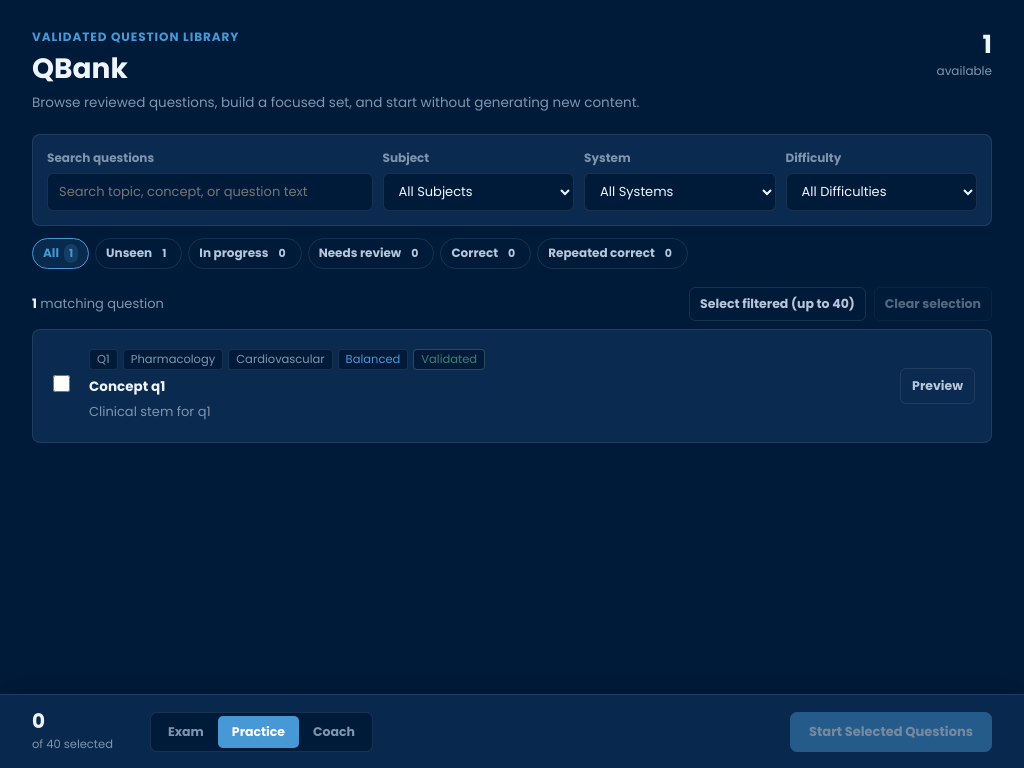
Test case: QBankPage — backend-driven catalog › shows an error and re-enables the button when starting the session fails
The width and height of the screenshot is (1024, 768).
Click the checkbox named "Select question 1" at (61, 384), box [52,375,70,392]
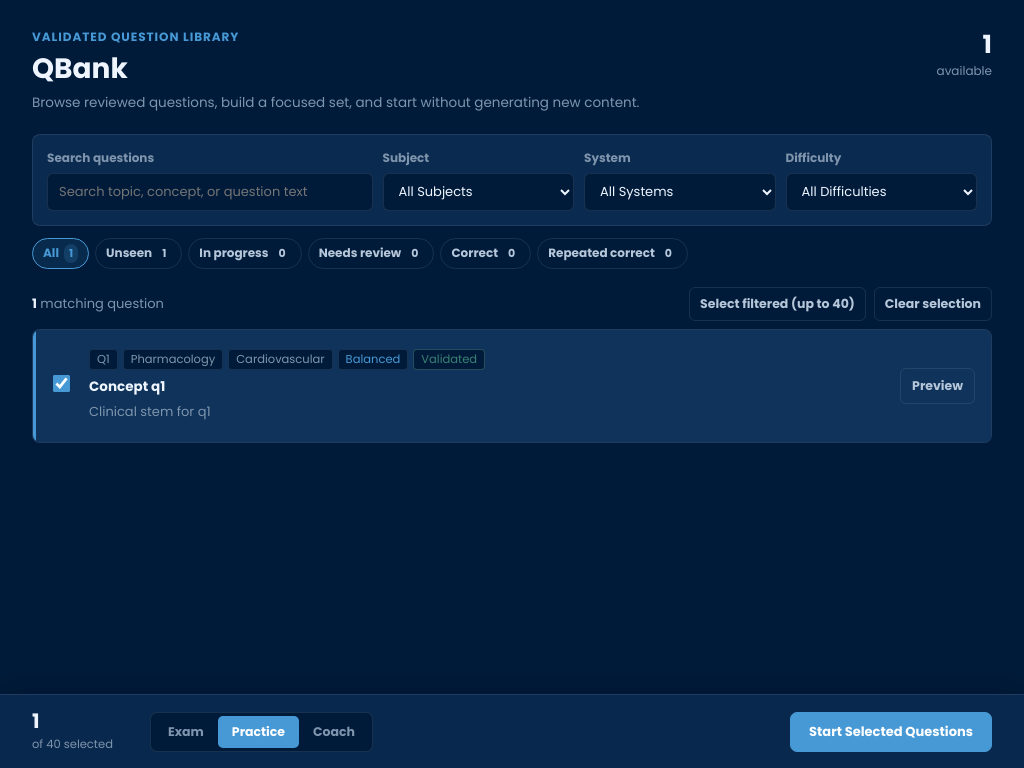
Click the button "Start Selected Questions" at (891, 732), box [790,712,992,752]
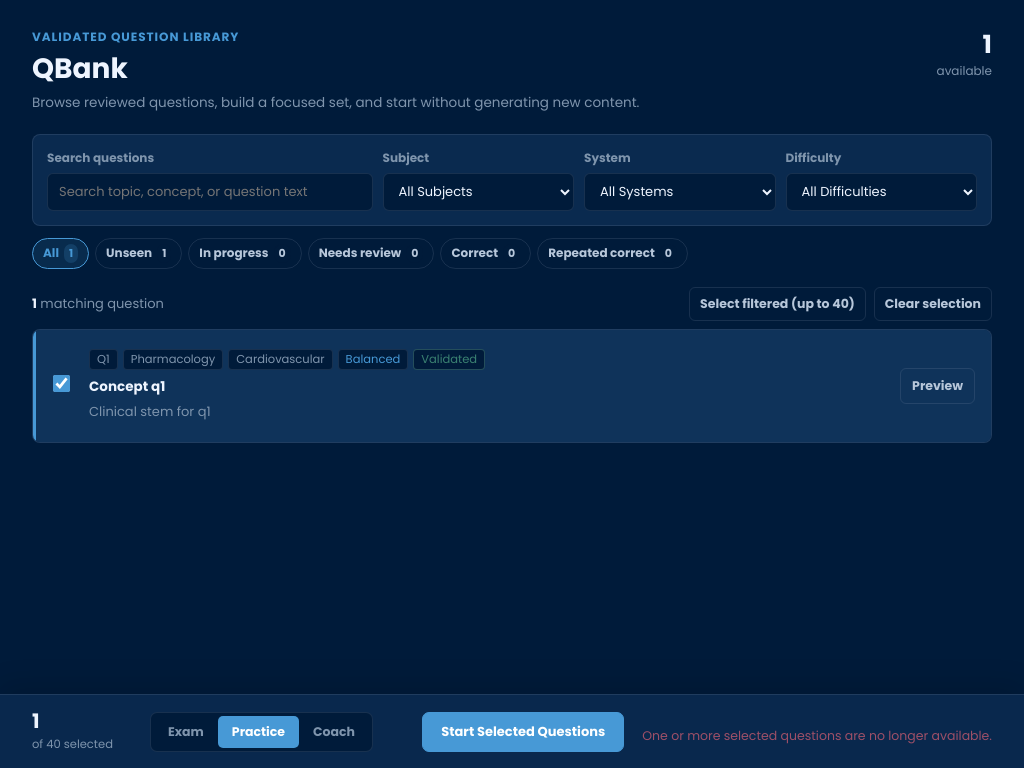
Check: the button "Start Selected Questions" is enabled, box [422,712,624,752]
Check: the message reads "One or more selected questions are no longer available.", box [642,726,992,744]
